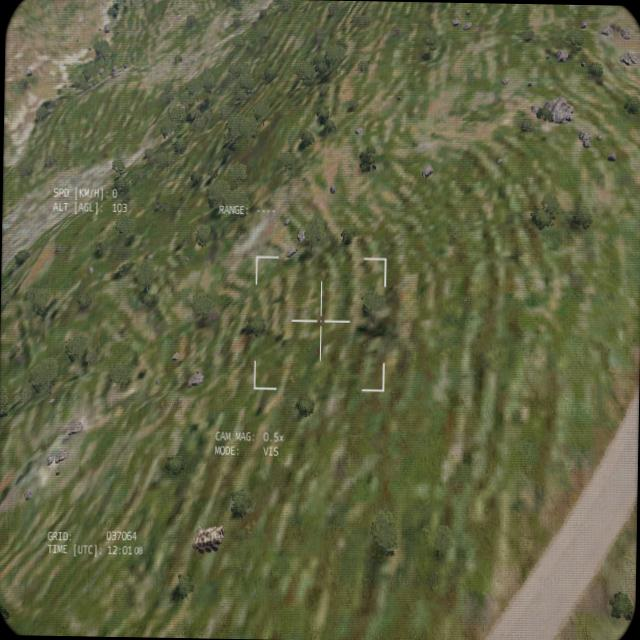apc: (190, 522, 223, 554)
